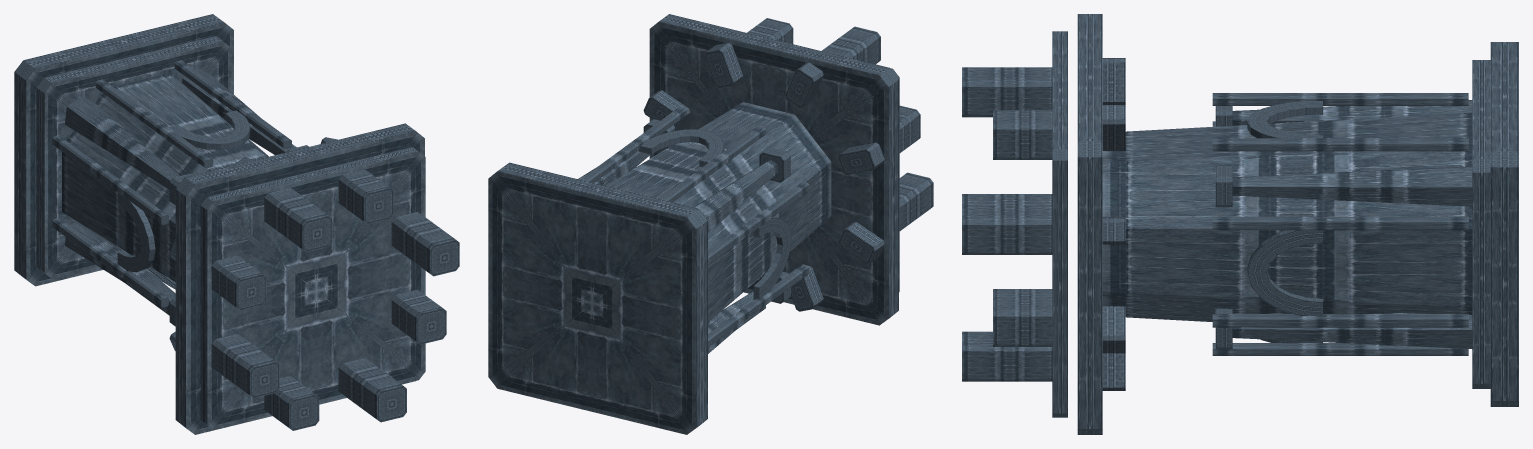
The model's file is rv_lookout_tower.obj.
The picture shows the model from 3 angles, left to right: view 1: azimuth 30°, elevation 25°; view 2: azimuth 150°, elevation 25°; view 3: azimuth 270°, elevation 25°; orthographic projection. The views are drawn at different scales.
Visible parts, largest first — view 1: rv_lookout_tower; view 2: rv_lookout_tower; view 3: rv_lookout_tower.
Part boxes in pixels (x1,y1,x2,y2): rv_lookout_tower: [14, 14, 459, 434]; rv_lookout_tower: [488, 14, 933, 434]; rv_lookout_tower: [962, 14, 1518, 434].
Size of the model in its own units: 9.2 by 9.2 by 15.78.
1 material, 1 textured.
